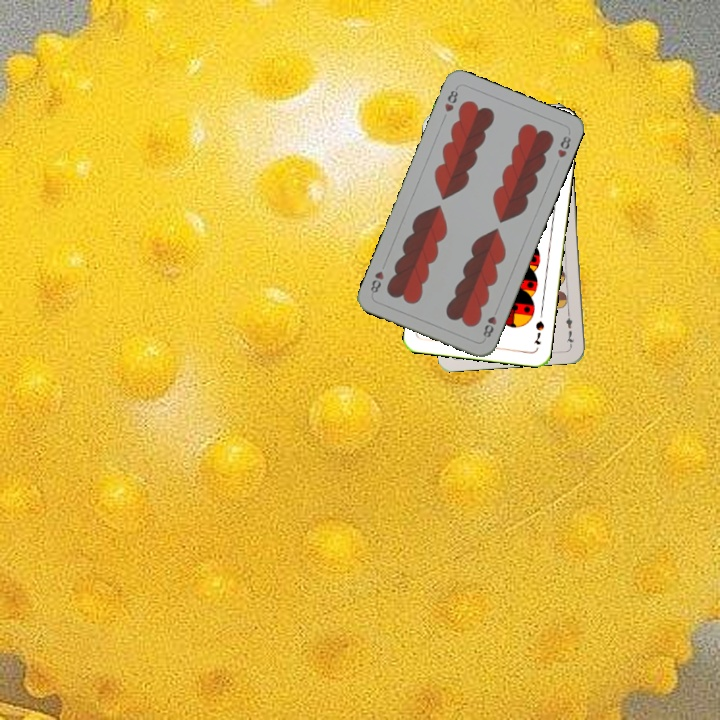E7: (562, 307, 577, 347)
H8: (479, 304, 501, 340), (440, 83, 461, 115)
S7: (530, 317, 547, 347)
